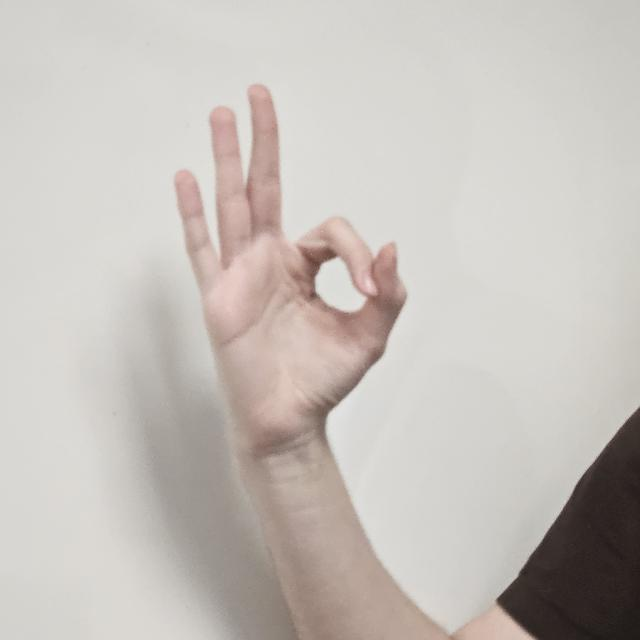Bolinha: (172, 84, 408, 438)
